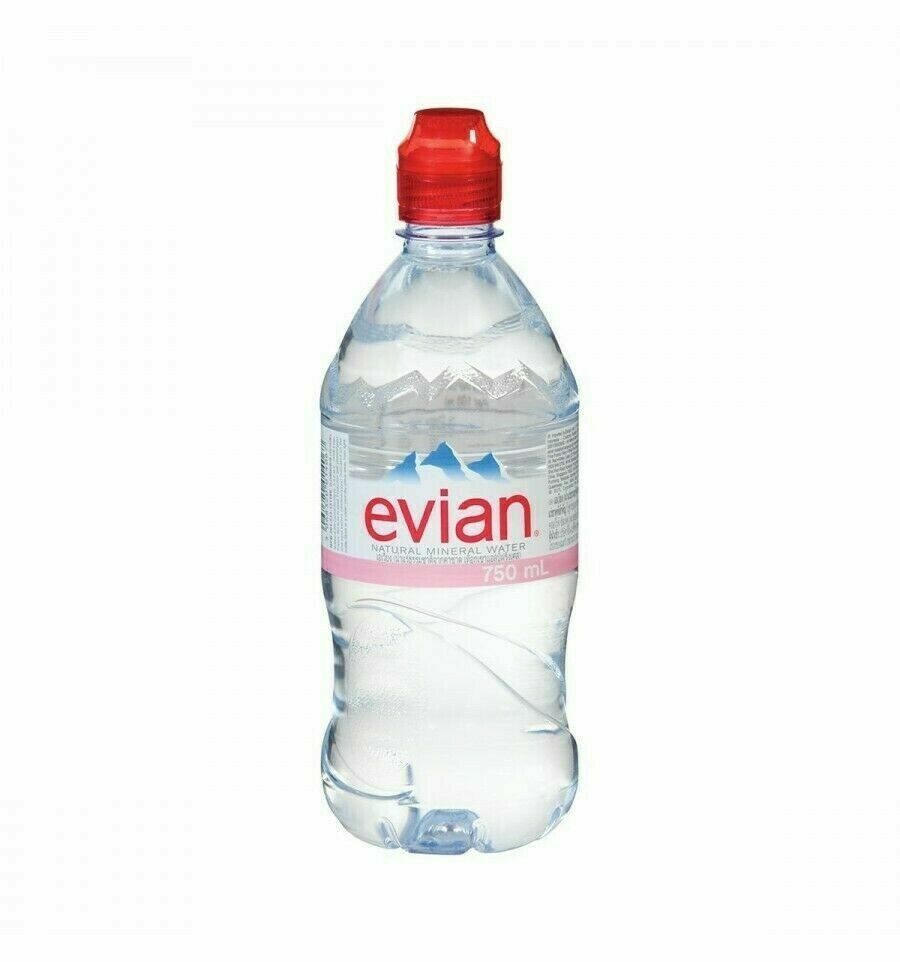PlasticBottle: (304, 91, 593, 867)
